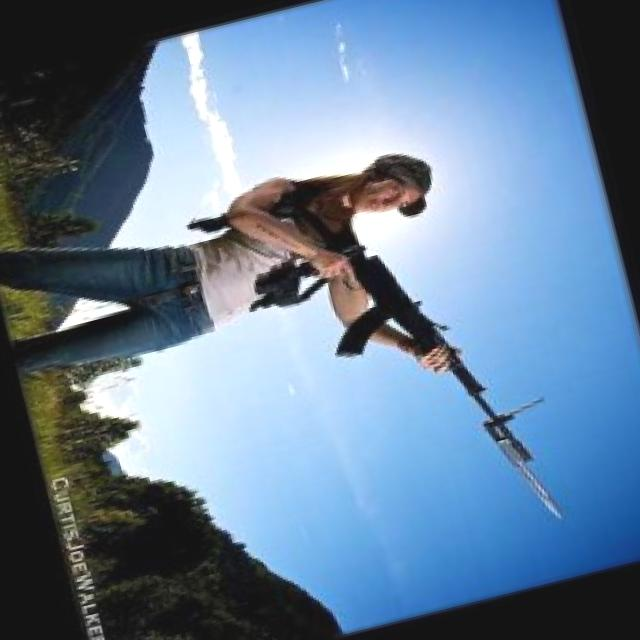long weapon: (233, 168, 593, 545)
